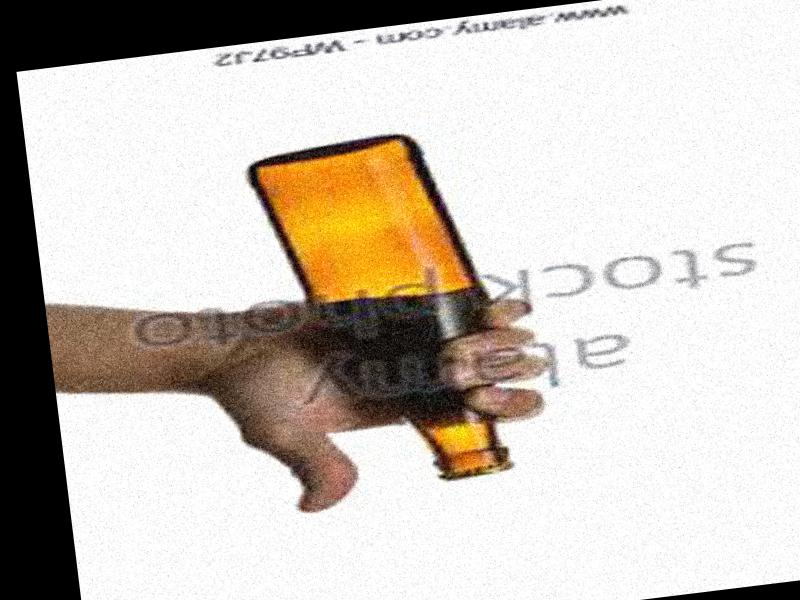Beer: (242, 126, 519, 496)
